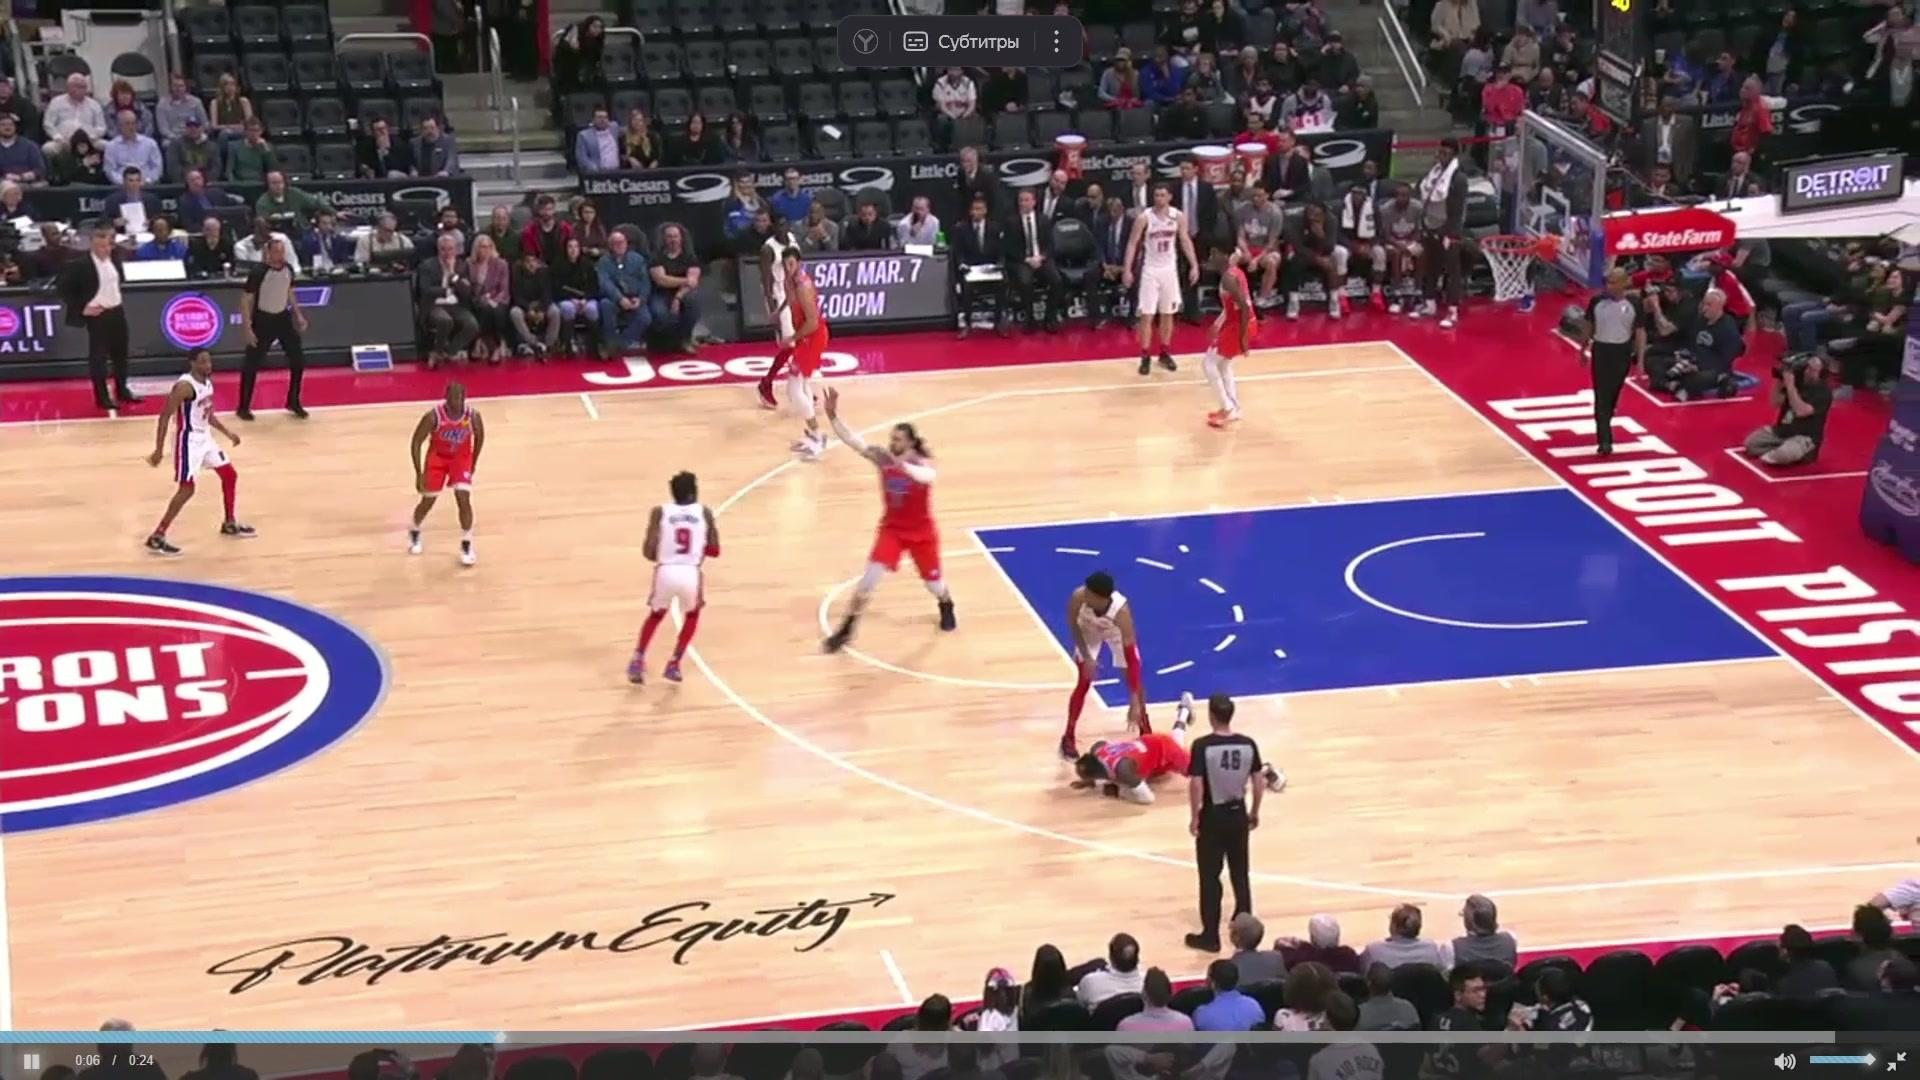foul: (1033, 583, 1216, 812)
